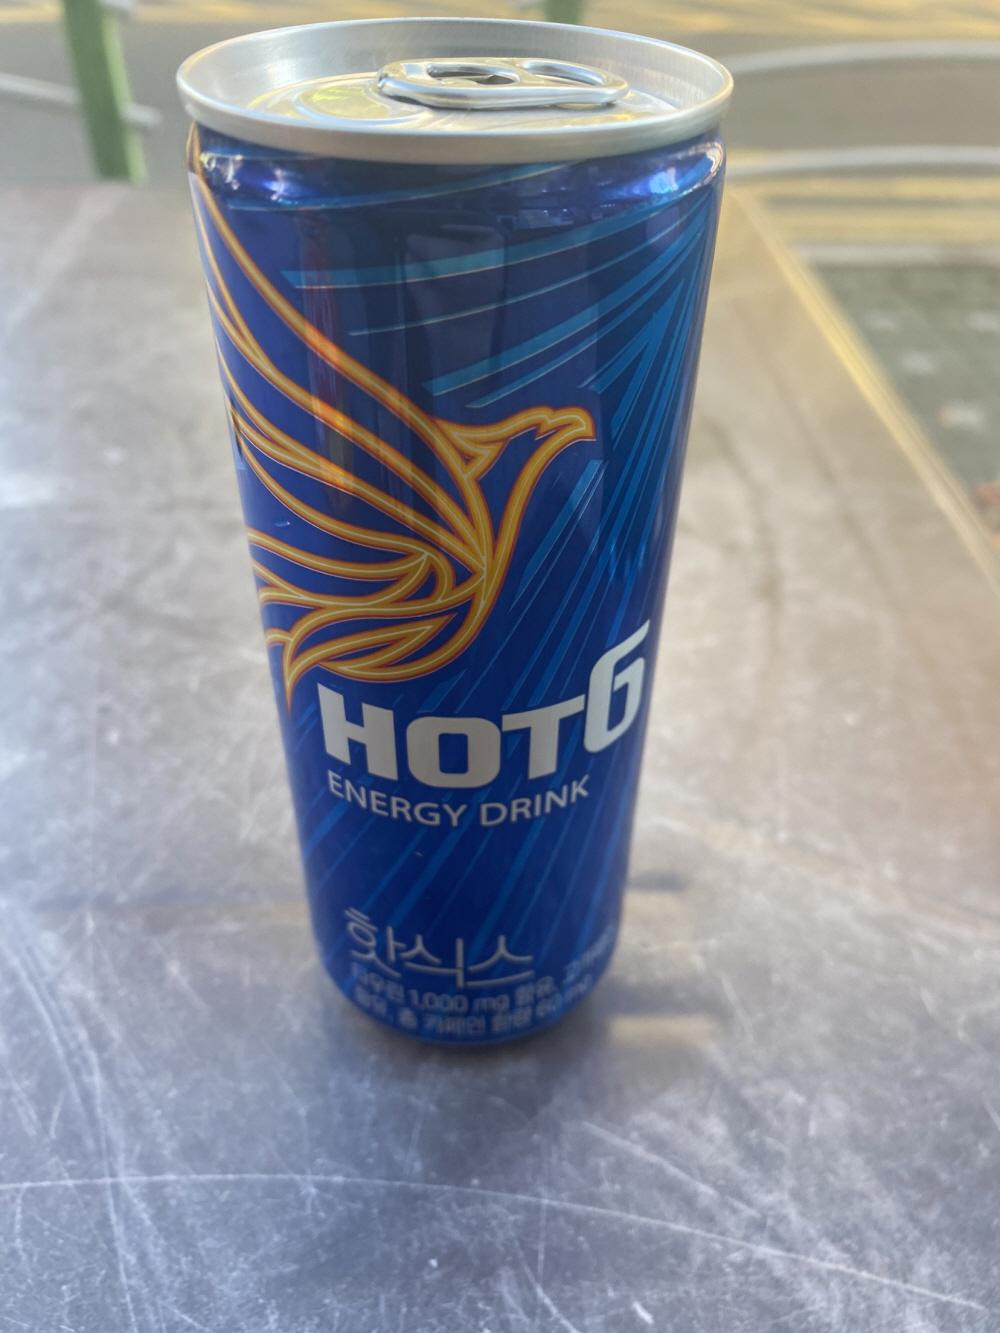hotsix_org: (175, 23, 725, 1062)
